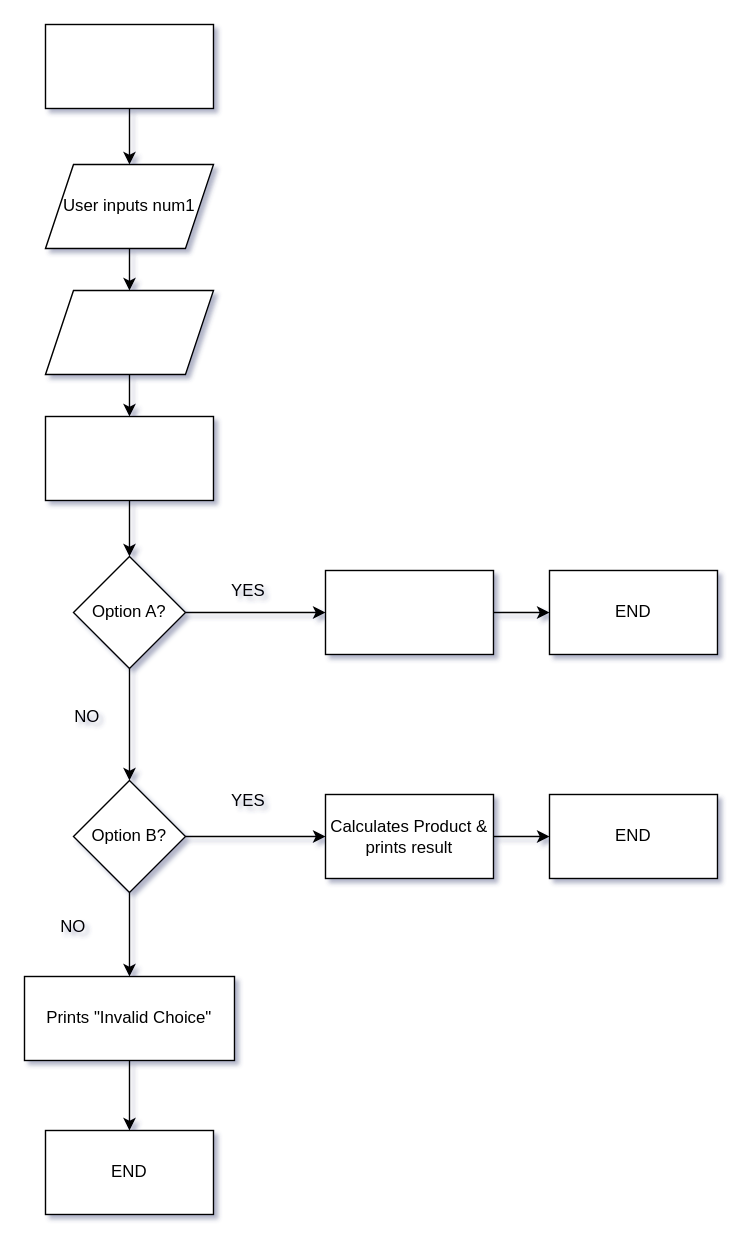
Some shapes in this 750 by 1247 pixel diagram are drawn without their labels. The shapes that lost their labels are listed below. From the top down, each one's centre as x and y in pixels, then its label:
the point at 129,65: START
the point at 129,331: User inputs num2
the point at 129,457: Display calculation options
the point at 408,611: Calculates Sum & prints result
